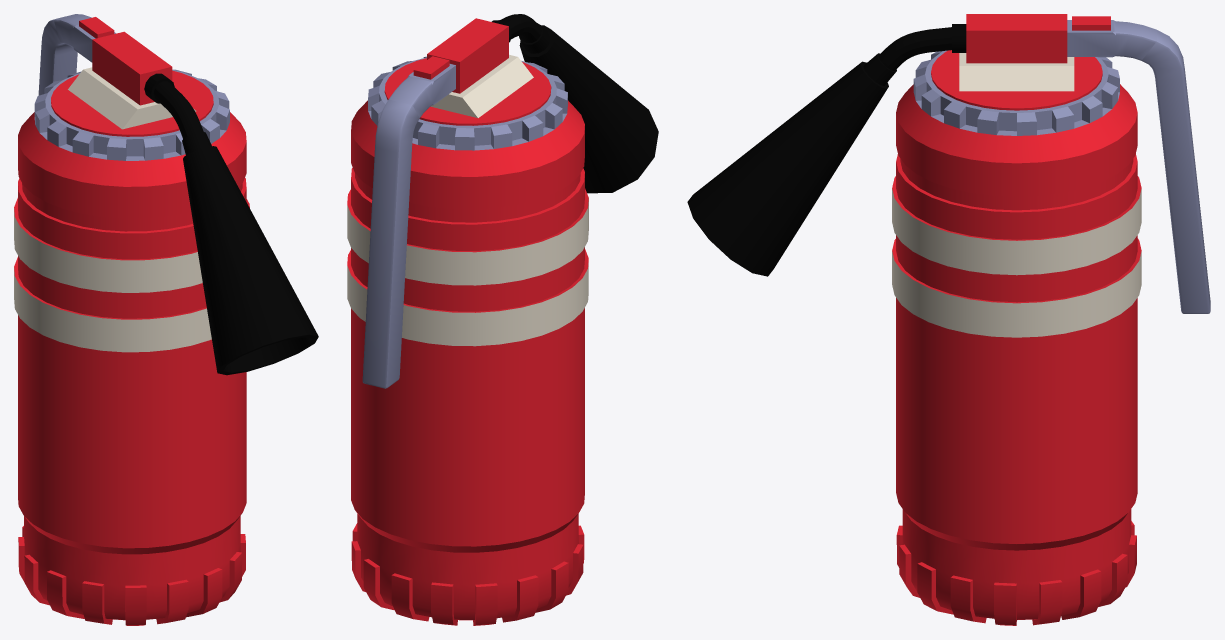
The model's file is extinguisher.glb.
3 renders of one model, left to right at view 1: azimuth 30°, elevation 25°; view 2: azimuth 150°, elevation 25°; view 3: azimuth 270°, elevation 25°, orthographic. The views are drawn at different scales.
Visible parts, largest first — view 1: Circle; view 2: Circle; view 3: Circle.
Part boxes in pixels (x1,y1,x2,y2): Circle: (14, 14, 318, 625); Circle: (347, 14, 658, 625); Circle: (687, 14, 1210, 625).
Bounding box in the file's own units: 1.88 × 4.74 × 3.93.
